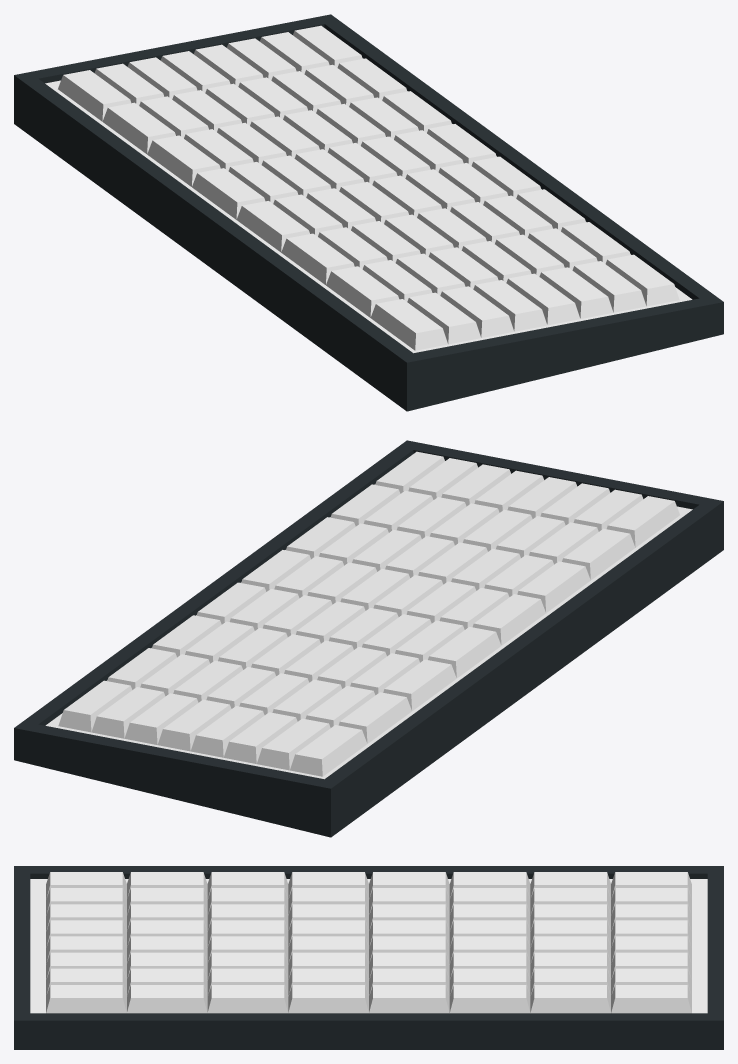
File: keyboard.fbx
3 views of the same model, one above another, from view 1: azimuth 30°, elevation 25°; view 2: azimuth 150°, elevation 25°; view 3: azimuth 270°, elevation 25° (orthographic). The views are drawn at different scales.
Visible parts, largest first — view 1: Cube; view 2: Cube; view 3: Cube.
Boxes of the visible parts, x1,y1,x2,y2 form: Cube: (14,14,723,411); Cube: (14,440,723,837); Cube: (14,866,723,1049).
Size of the model in its own units: 0.9315 by 0.1588 by 2.
